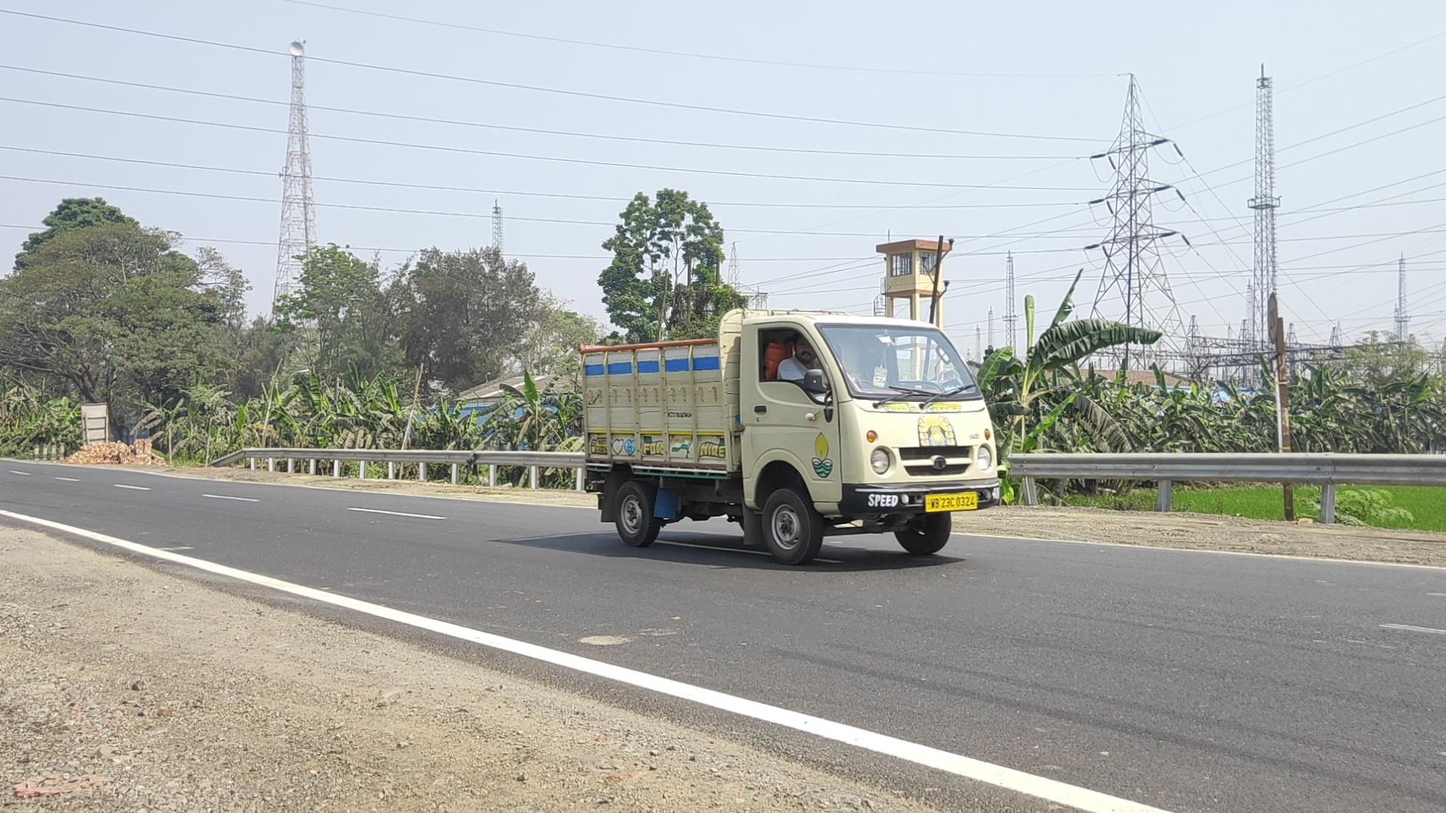van: (578, 307, 1001, 565)
